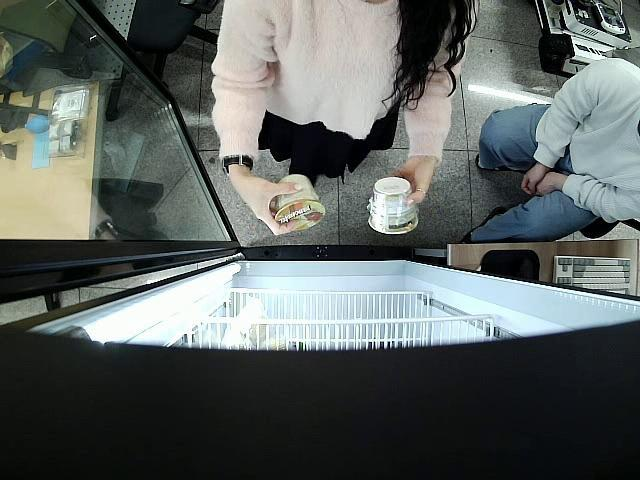04_chapagetti_S: (274, 174, 326, 235), (368, 176, 421, 235)
